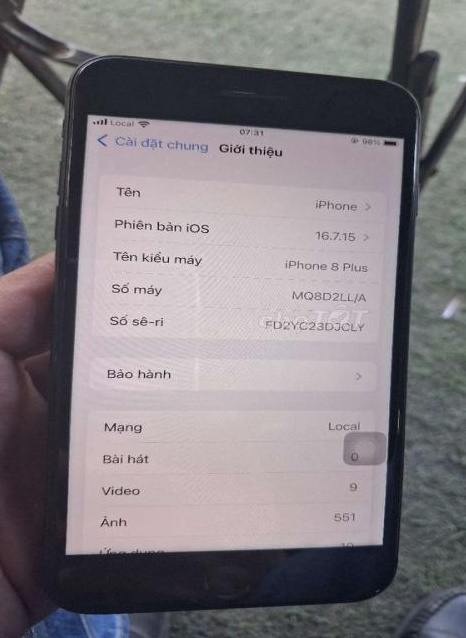scratch: (381, 72, 421, 189), (47, 105, 80, 210), (355, 568, 386, 597)
